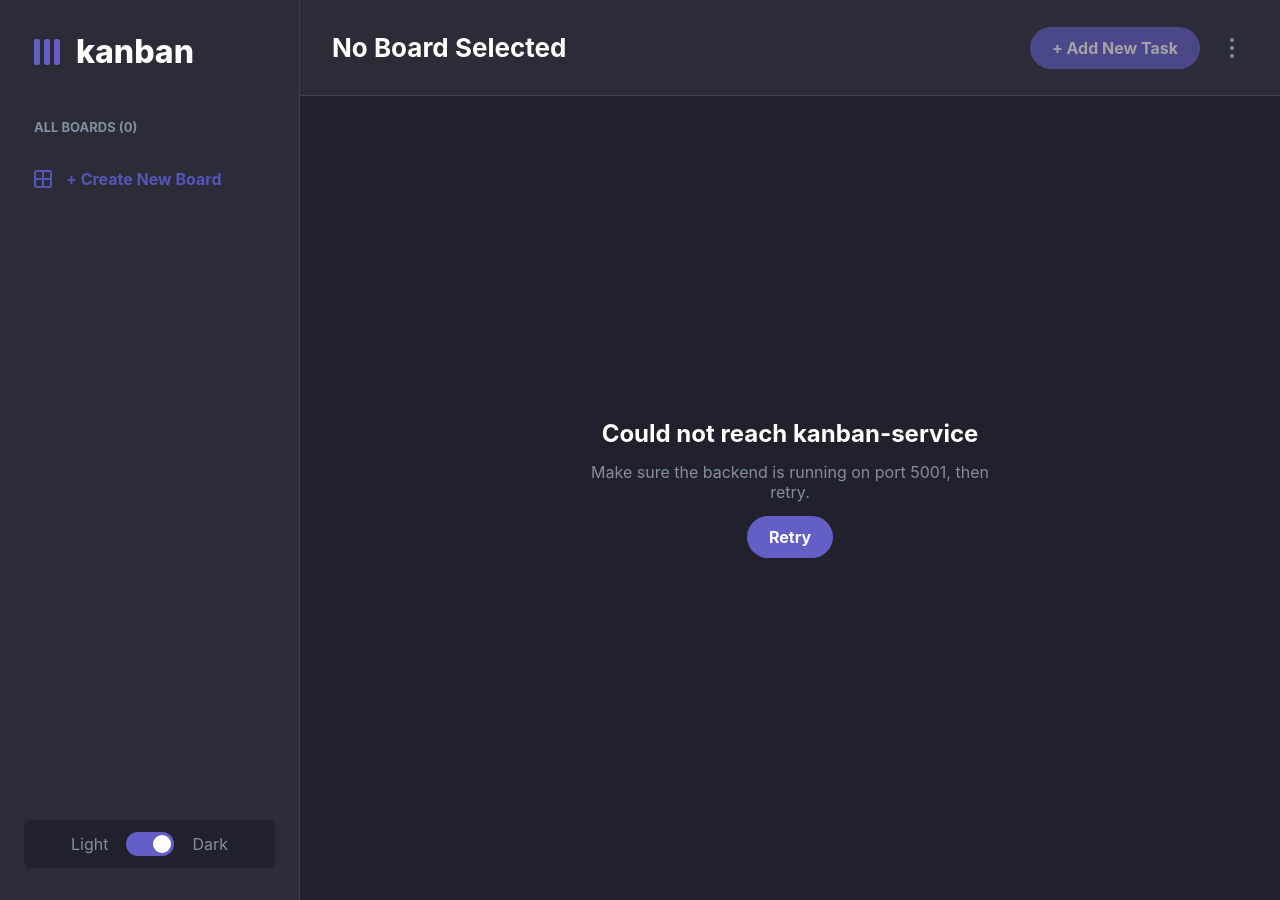
Kanban app › toggles between dark and light mode through context
Step 1. Click the button named "switch to light mode" → click(150, 844), box x1=126 y1=832 x2=174 y2=856
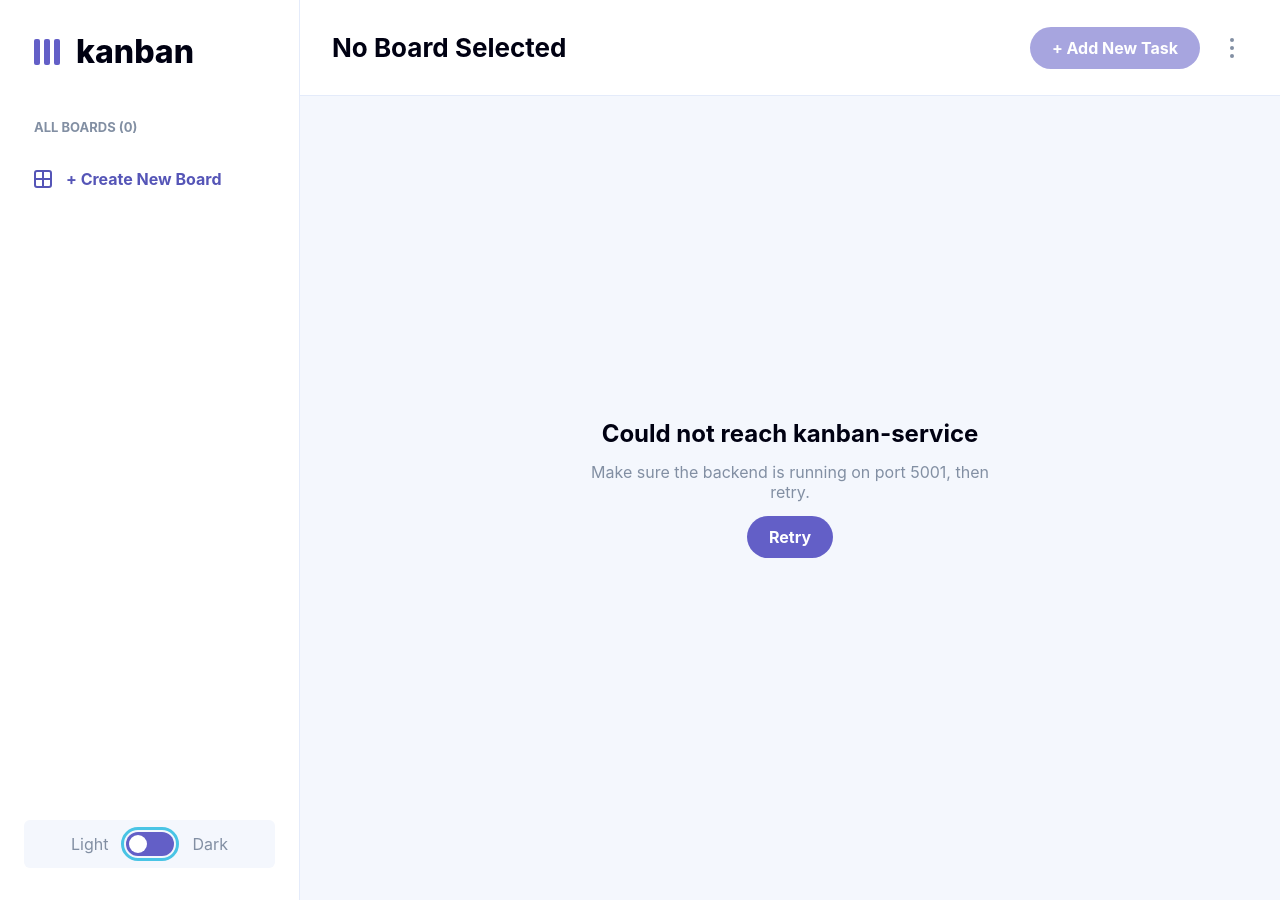
Check: the button named "switch to dark mode" is shown, box x1=126 y1=832 x2=174 y2=856
